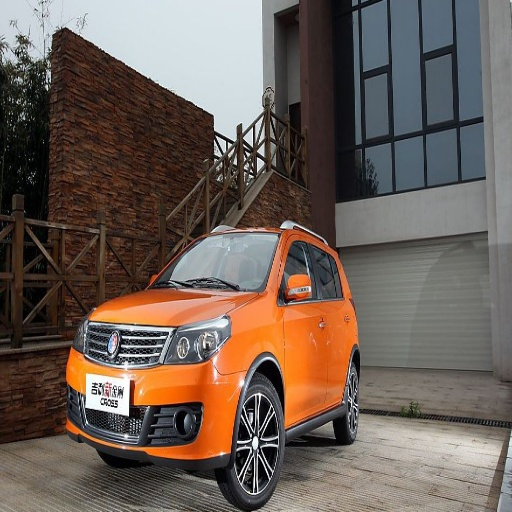front_bumper: (66, 322, 249, 464)
front_glass: (153, 232, 277, 291)
front_left_door: (279, 231, 324, 423)
